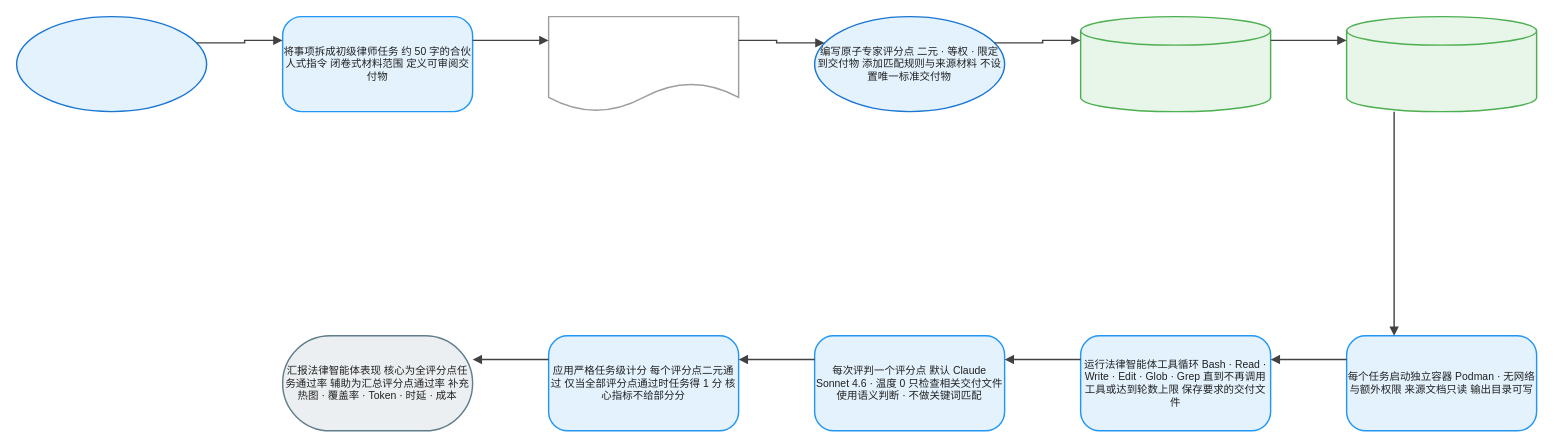
The diagram is 1554 pixels wide and 448 high, and some of its shapes have lost their labels. Each missing label, with the centre of its shape:
"从真实感客户事项出发 由执业律师模拟真实工作 覆盖 24 个法律执业领域 包含合同工作流" goes at (111,63).
"发布持续演进的基准 1,660 个任务 · 约 101,000 个评分点 24 个执业领域及合同工作 仓库采用 MIT 许可证开放" goes at (1441,63).
"打包结构化任务记录 标题 · 指令 · 工作类型 交付物 · 评分点 · 标签 将文档与任务一同版本化" goes at (1175,63).
"构建合成客户材料 在律师指导下批量生成 同时包含关键与外围材料 律师审核 DOCX · XLSX · PPTX · PDF · 邮件" goes at (643,63).
